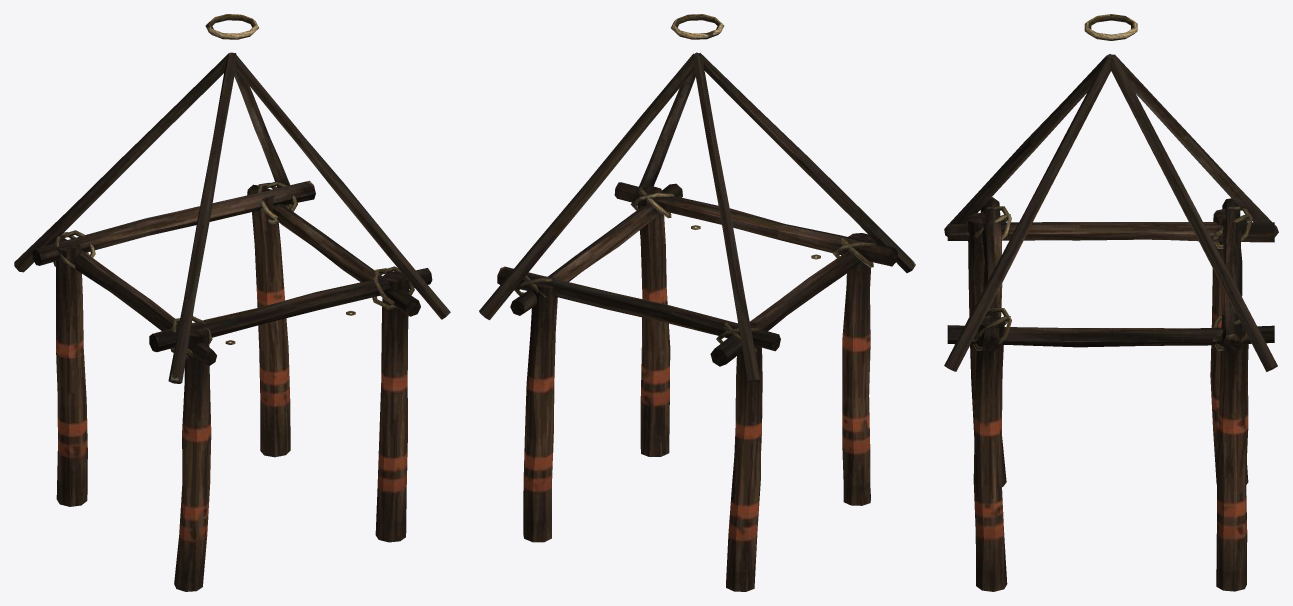
The model's file is temple_posts.gltf.
3 views of the same model, side by side, from view 1: azimuth 30°, elevation 25°; view 2: azimuth 150°, elevation 25°; view 3: azimuth 270°, elevation 25° (orthographic). The views are drawn at different scales.
Parts seen in each view (by area): view 1: temple_posts; view 2: temple_posts; view 3: temple_posts.
Boxes of the visible parts, box(x1,y1,x2,y2) form: temple_posts: box(14, 14, 450, 591); temple_posts: box(479, 14, 915, 591); temple_posts: box(944, 14, 1278, 591).
Bounding box in the file's own units: 2.34 × 3.93 × 2.34.
Materials: 4 (4 with a texture image).
